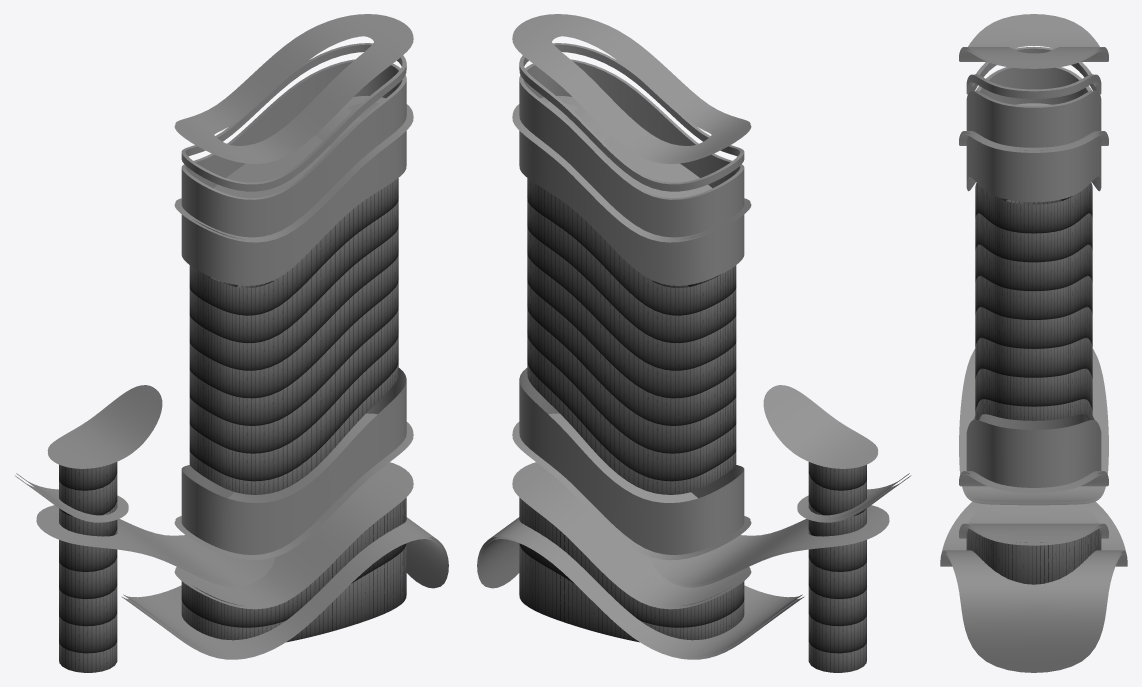
The model's file is build10.gltf.
3 views of the same model, side by side, from view 1: azimuth 30°, elevation 25°; view 2: azimuth 150°, elevation 25°; view 3: azimuth 270°, elevation 25° (orthographic). The views are drawn at different scales.
Parts seen in each view (by area): view 1: Object_379.001; view 2: Object_379.001; view 3: Object_379.001.
Boxes of the visible parts, <box> form: Object_379.001: <box>14,14,448,672</box>; Object_379.001: <box>477,14,911,672</box>; Object_379.001: <box>940,14,1127,672</box>.
Bounding box in the file's own units: 15.59 × 20.97 × 5.93.
Materials: 2 (2 with a texture image).
